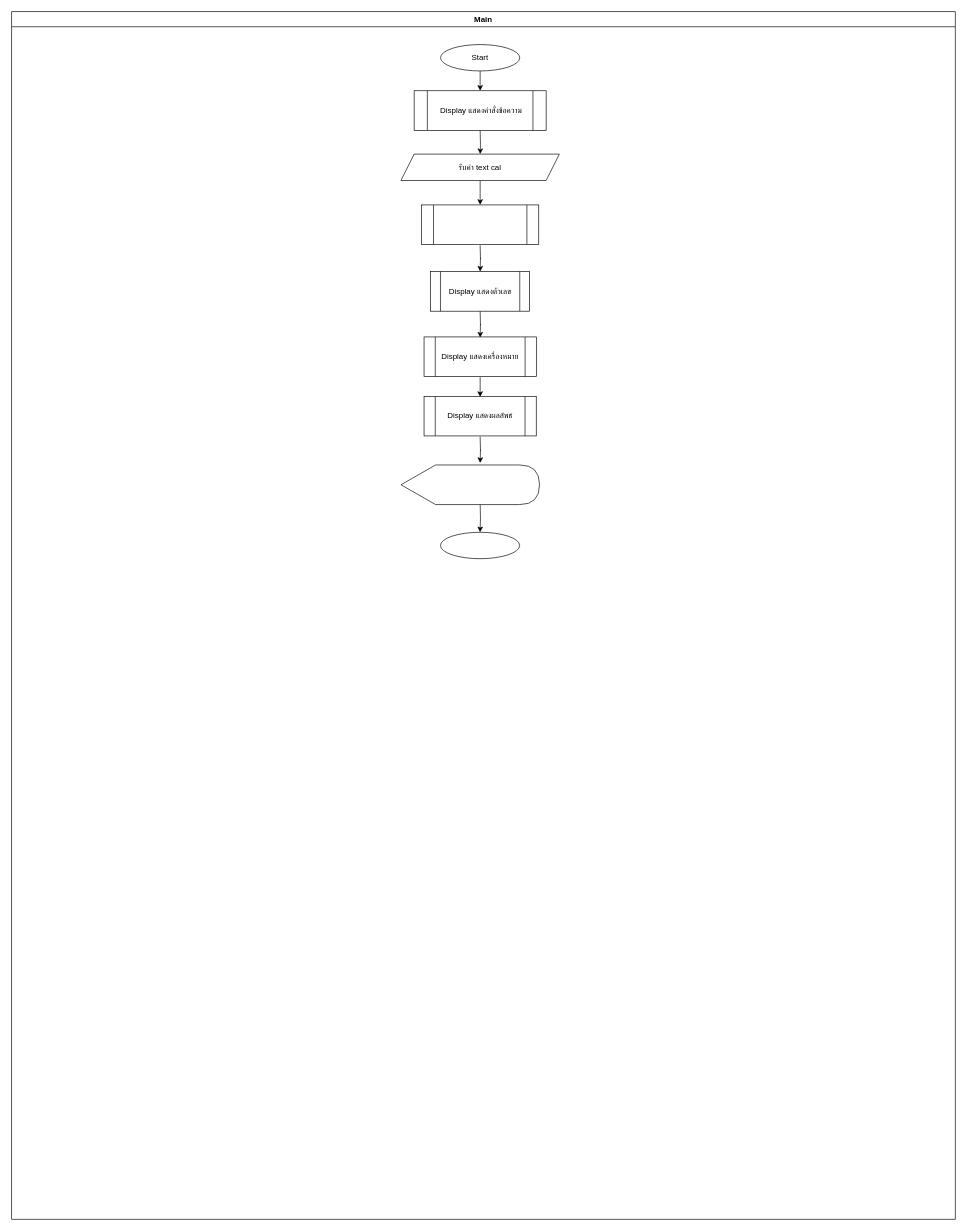
The diagram is 967 pixels wide and 1231 high, and some of its shapes have lost their labels. The shapes that lost their labels are listed below. From the top down, each one's centre as x and y in pixels, then its label:
At pixel 480 224: "Calculator รับค่าผลลัพธ์".
At pixel 470 484: "Display แสดงรูปเครื่องคิดเลข".
At pixel 480 545: "End".
